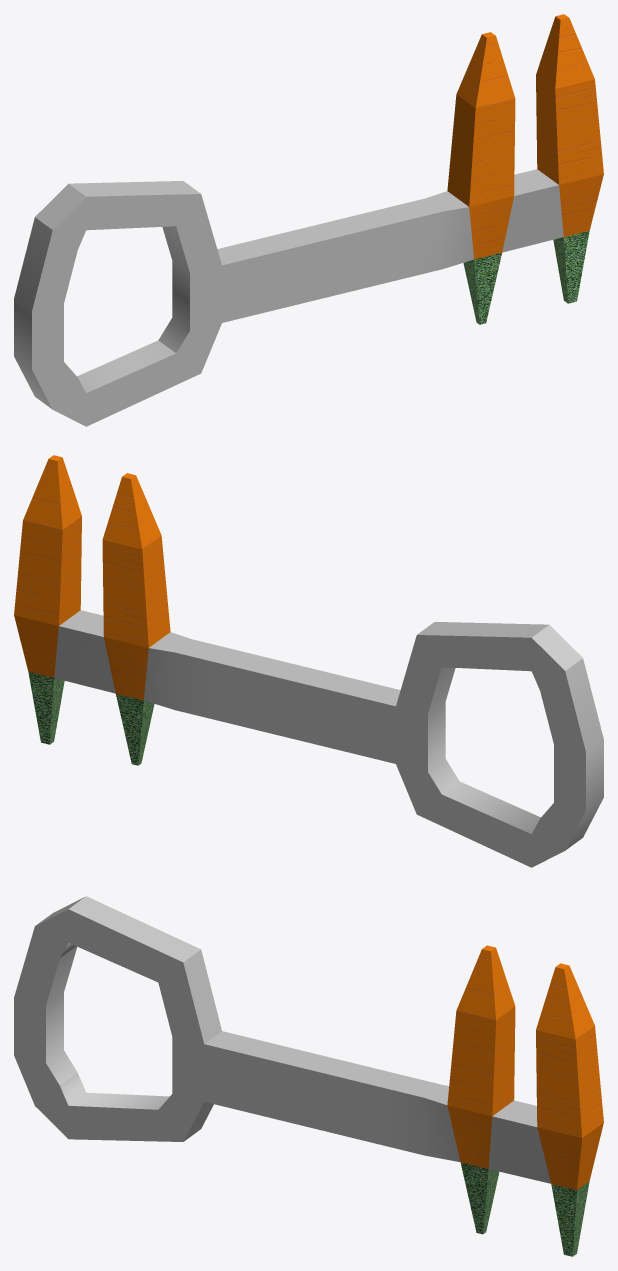
The model's file is CleLapinou.FBX.
3 renders of one model, top to bottom at view 1: azimuth 30°, elevation 25°; view 2: azimuth 150°, elevation 25°; view 3: azimuth 330°, elevation 25°, orthographic.
Parts seen in each view (by area): view 1: Boîte001; view 2: Boîte001; view 3: Boîte001.
Boxes of the visible parts, x1=… form: Boîte001: x1=14, y1=14, x2=603, y2=426; Boîte001: x1=14, y1=455, x2=603, y2=867; Boîte001: x1=14, y1=896, x2=603, y2=1256.
Bounding box in the file's own units: 60.36 × 28.93 × 4.
